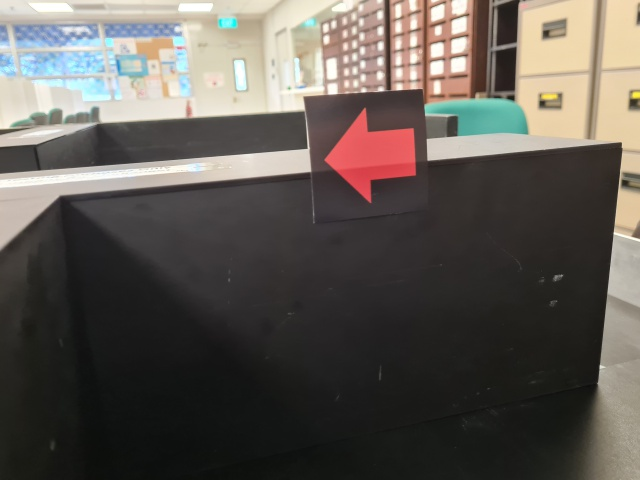left_arrow: (303, 89, 431, 222)
